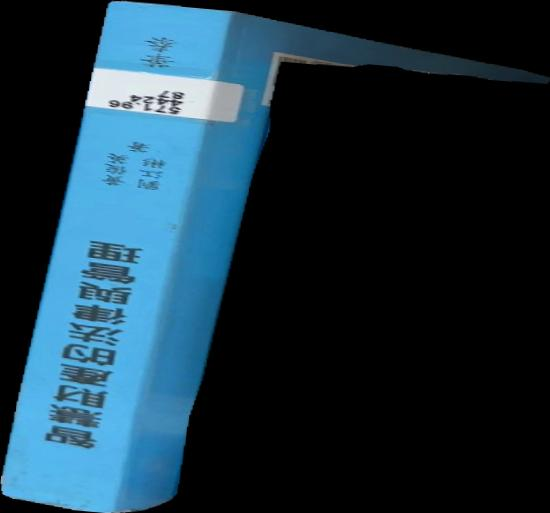reverse: (1, 1, 550, 513)
